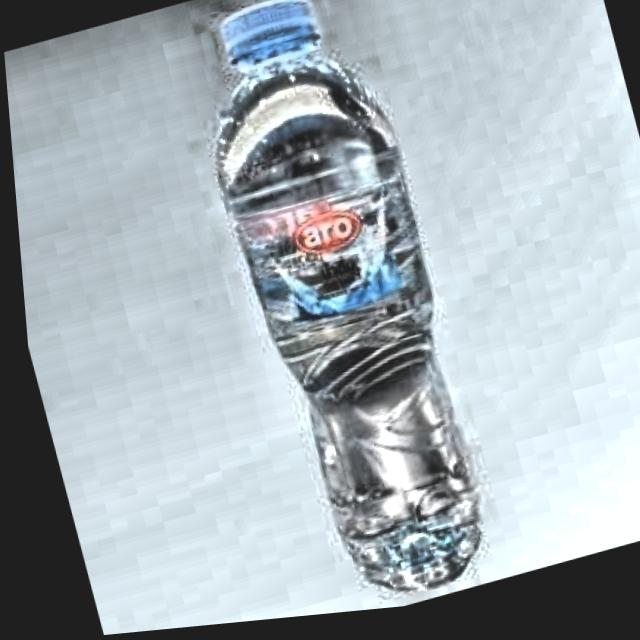Bottles: (150, 0, 517, 629)
